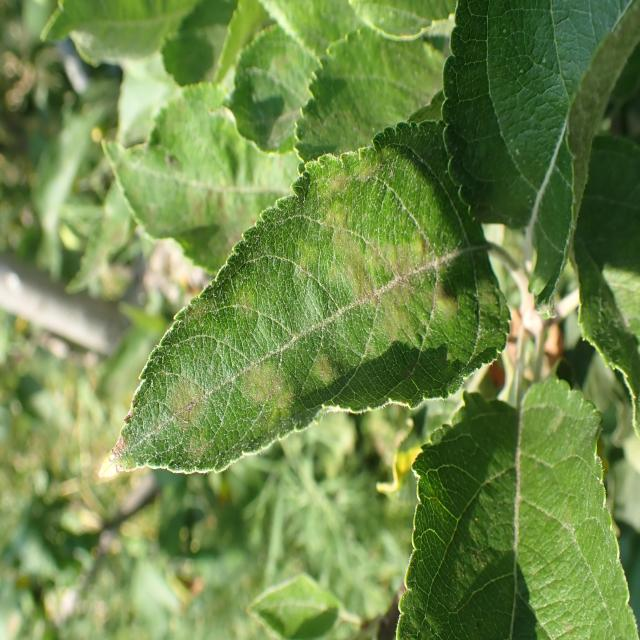scab: (116, 143, 447, 472)
